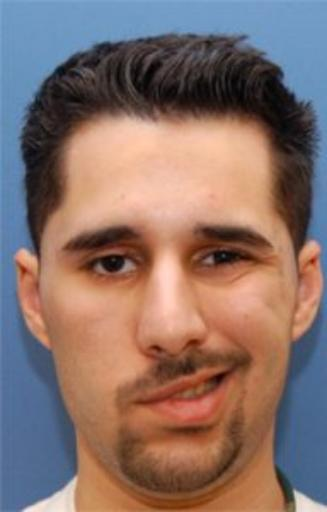left_eye: (193, 248, 262, 273)
left_lip_corner: (222, 359, 242, 384)
right_eye: (79, 250, 146, 281)
right_lip_corner: (131, 394, 148, 414)
